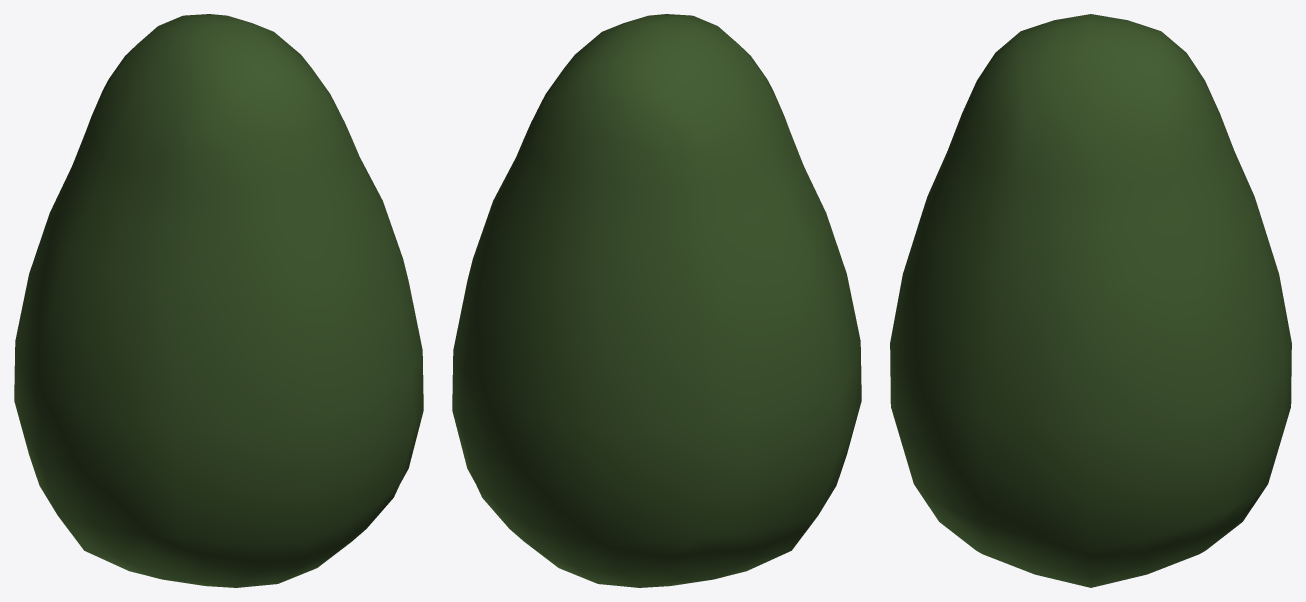
The model's file is Avocado.fbx.
3 renders of one model, left to right at view 1: azimuth 30°, elevation 25°; view 2: azimuth 150°, elevation 25°; view 3: azimuth 270°, elevation 25°, orthographic.
Parts seen in each view (by area): view 1: avo2; view 2: avo2; view 3: avo2.
Part boxes in pixels (bbox=[...]): avo2: bbox=[14, 14, 423, 587]; avo2: bbox=[452, 14, 861, 587]; avo2: bbox=[890, 14, 1291, 587].
Bounding box in the file's own units: 70.57 × 101 × 67.89.
